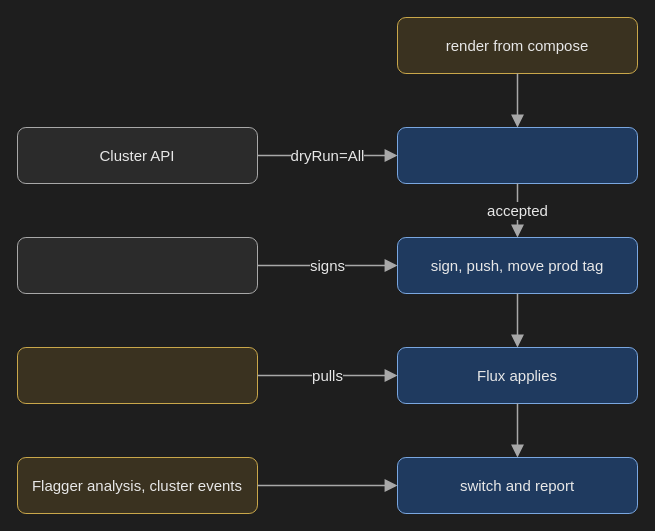
Some shapes in this 655 by 531 pixel diagram are drawn without their labels. The shapes that lost their labels are listed below. From the top down, each one's centre as x and y in pixels, then its label:
At pixel 517 155: "dry-run".
At pixel 137 265: "Vault Transit key".
At pixel 137 375: "ghcr prod tag".
